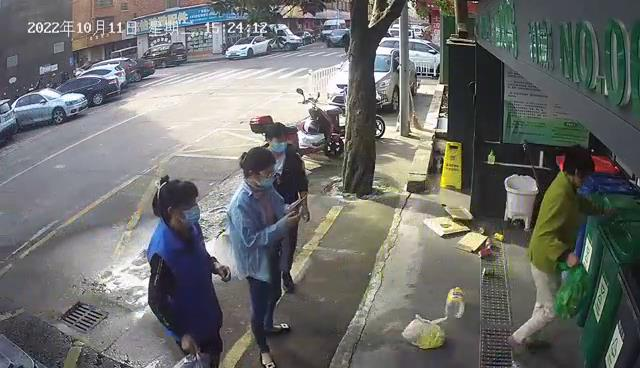garbage-bag: (555, 260, 593, 320), (400, 312, 449, 350)
lvzhipin: (479, 246, 494, 259), (481, 266, 496, 278), (494, 231, 505, 242)
person: (506, 145, 607, 348), (262, 122, 309, 295)
suliaozhipin: (445, 285, 465, 319)
worker: (225, 146, 308, 368), (145, 174, 232, 368)
zhizhipin: (422, 216, 471, 237), (457, 231, 488, 252), (444, 204, 474, 222)
